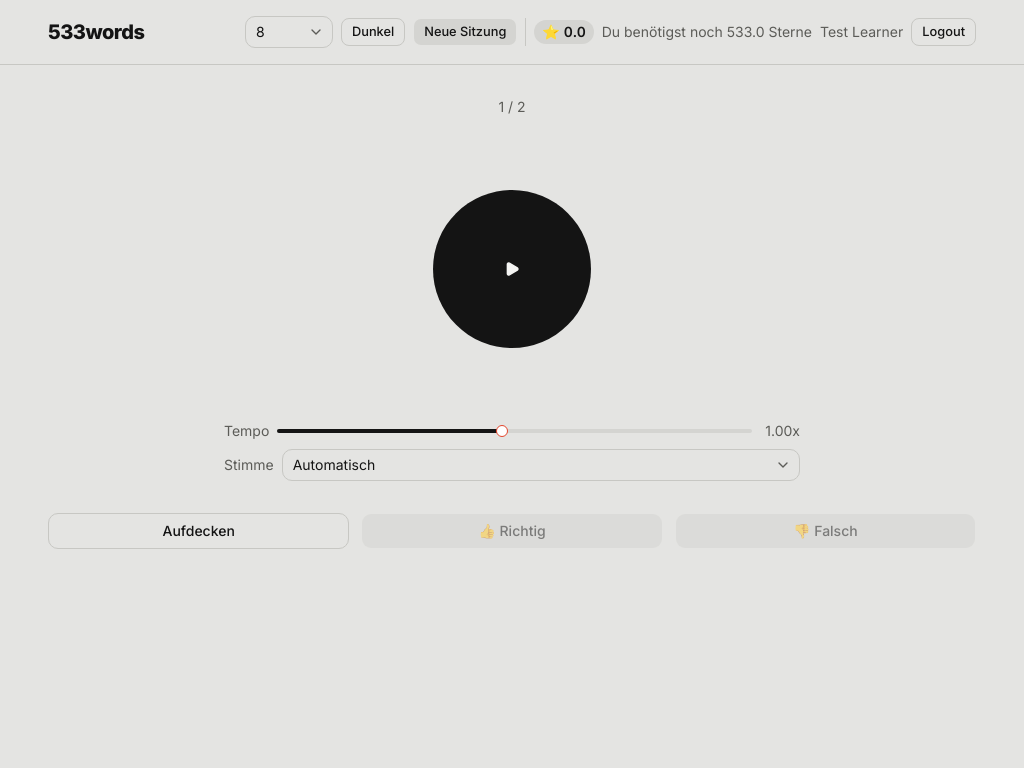
Test case: Home practice screen › shows a results summary in flagged order after completing a session
Expected: the button named "abspielen" is shown, [432,189,592,349]
Click the button "Aufdecken" at (199, 531), box [48,513,349,549]
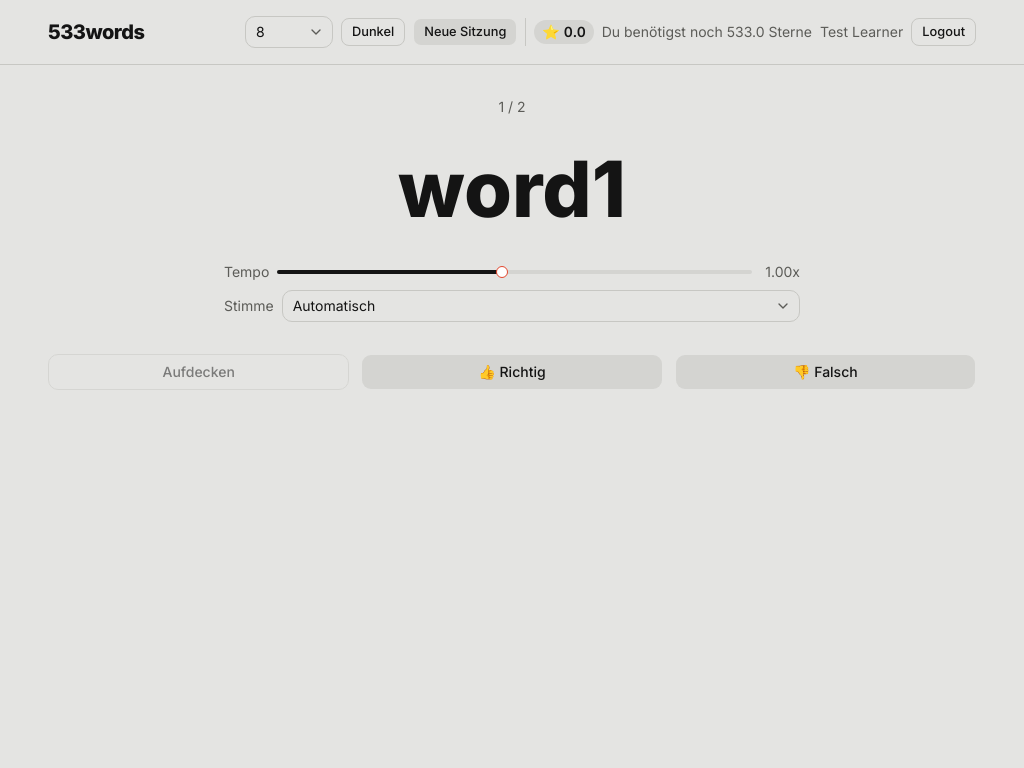
Click the button "👍 Richtig" at (512, 372), box [361,354,663,390]
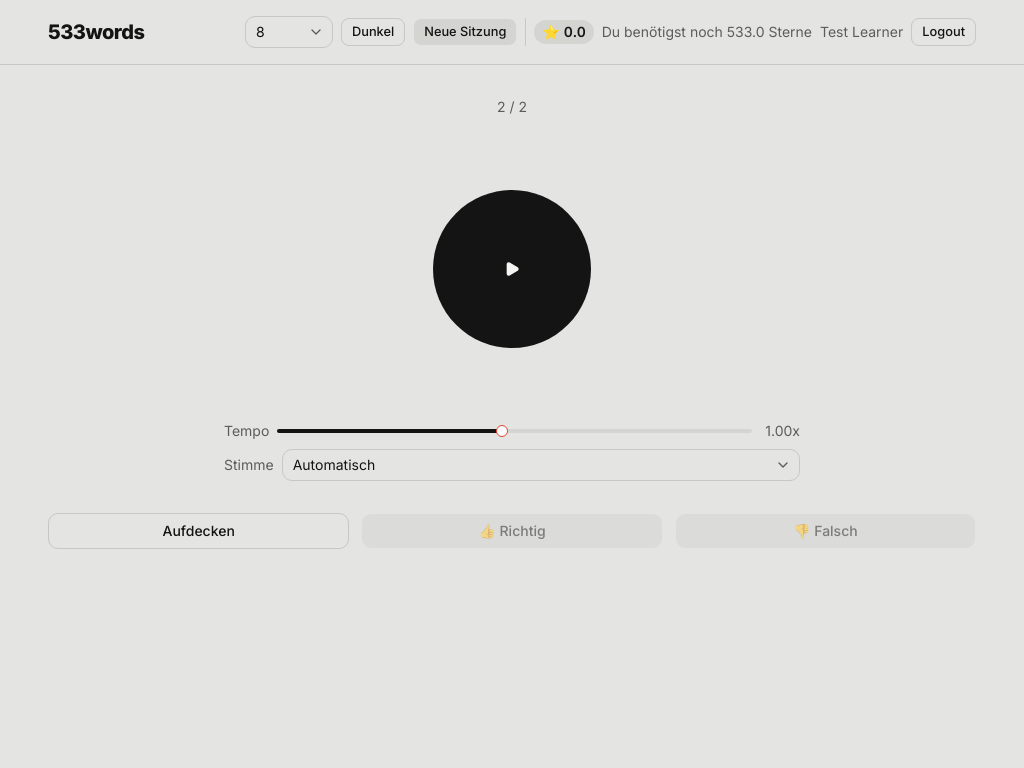
Now the button named "abspielen" is shown, box [432,189,592,349]
Click the button "Aufdecken" at (199, 531), box [48,513,349,549]
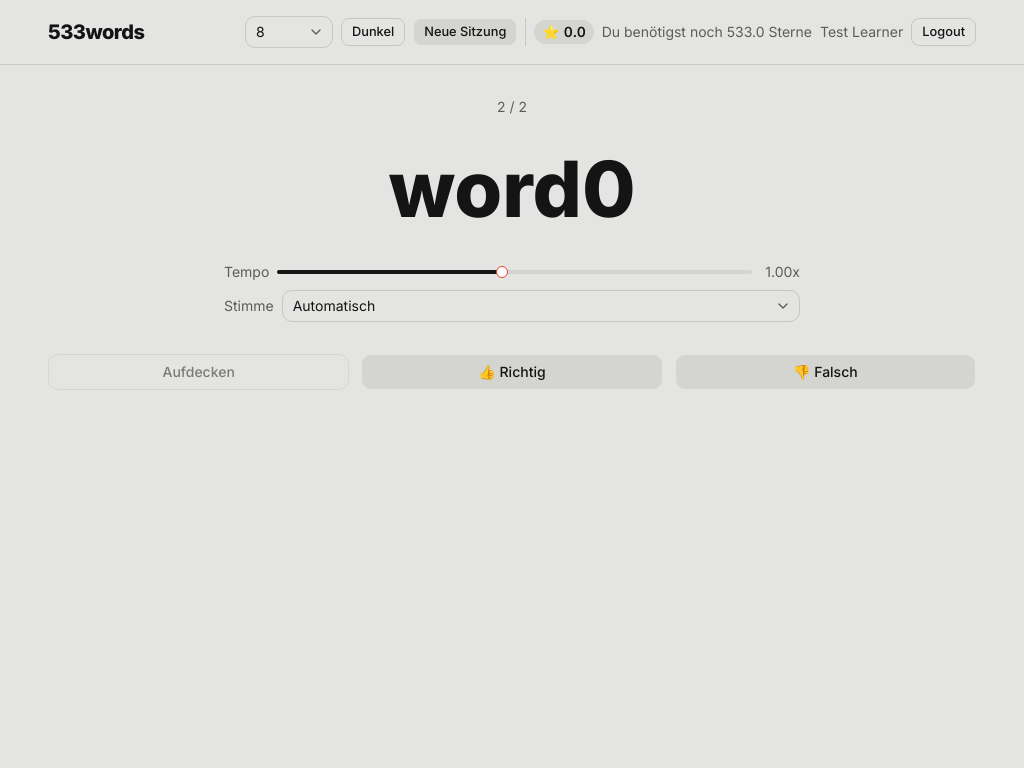
Click the button "👎 Falsch" at (825, 372), box [675,354,976,390]
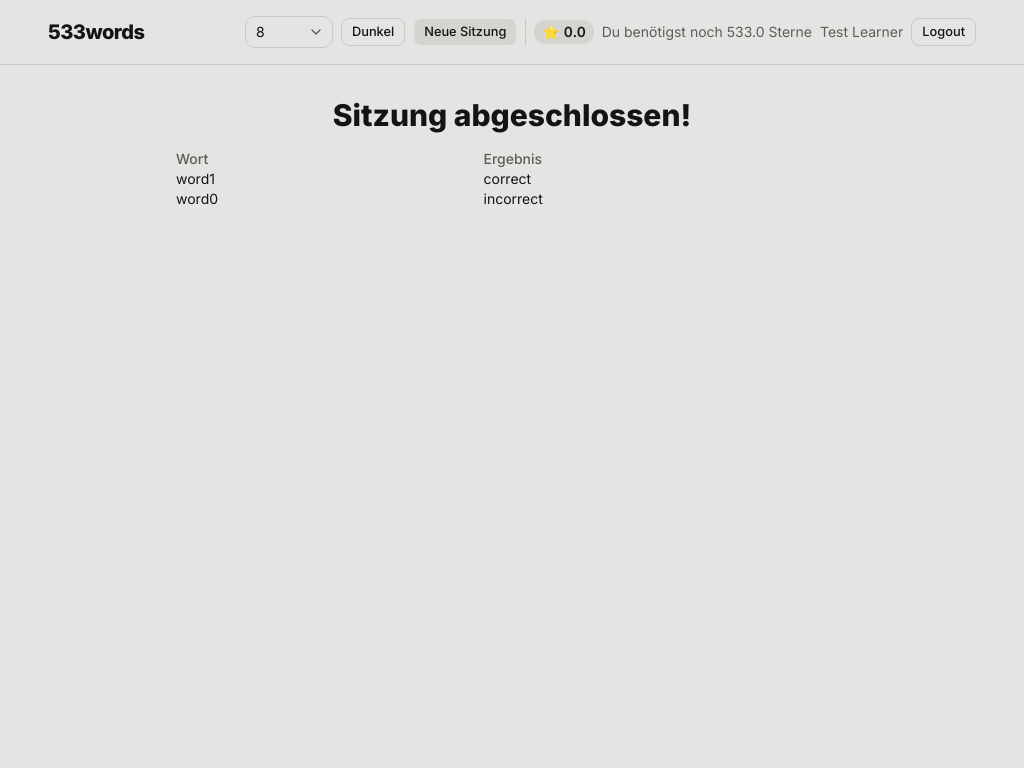
Now the text "Sitzung abgeschlossen!" is shown, box [333,97,691,133]
Now the text "correct" is shown, box [484,169,848,189]
Now the text "incorrect" is shown, box [484,189,848,209]
